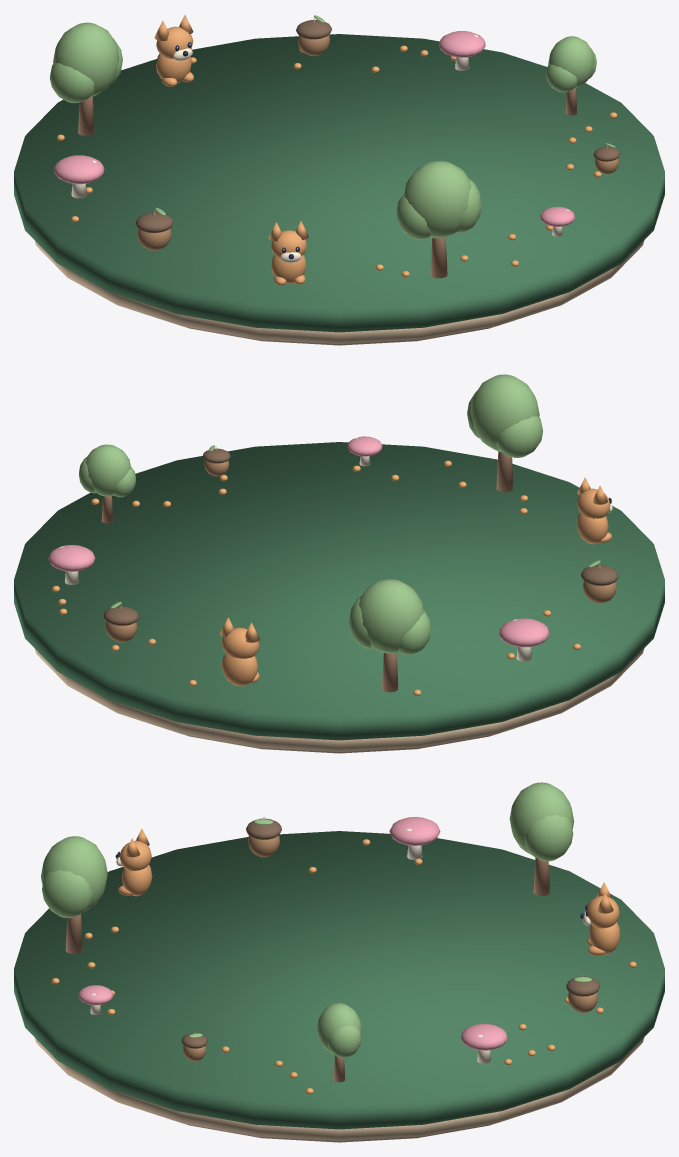
The model's file is world.glb.
The picture shows the model from 3 angles, top to bottom: view 1: azimuth 30°, elevation 25°; view 2: azimuth 150°, elevation 25°; view 3: azimuth 270°, elevation 25°; orthographic projection.
Parts seen in each view (by area): view 1: Cone, Cone.001, tree.003, tree.002, tree.001, fox.001, fox.002, mushroom.002, acorn.002, mushroom.001, acorn.001, mushroom.003 (+2 smaller); view 2: Cone, Cone.001, tree.002, tree.003, tree.001, fox.001, fox.002, mushroom.002, acorn.002, mushroom.001, acorn.001, mushroom.003 (+2 smaller); view 3: Cone, Cone.001, tree.003, tree.002, tree.001, fox.001, fox.002, mushroom.002, mushroom.001, acorn.002, acorn.001, mushroom.003 (+2 smaller).
Boxes of the visible parts, x1,y1,x2,y2 form: Cone: [14, 34, 664, 332]; Cone.001: [34, 240, 644, 344]; tree.003: [396, 161, 481, 278]; tree.002: [50, 22, 122, 136]; tree.001: [546, 36, 596, 115]; fox.001: [154, 15, 193, 86]; fox.002: [268, 221, 308, 285]; mushroom.002: [54, 155, 104, 198]; acorn.002: [135, 207, 173, 250]; mushroom.001: [439, 31, 485, 70]; acorn.001: [296, 15, 331, 56]; mushroom.003: [540, 206, 575, 236]; Cone: [14, 442, 664, 740]; Cone.001: [34, 648, 644, 751]; tree.002: [349, 579, 430, 692]; tree.003: [467, 374, 542, 492]; tree.001: [79, 444, 135, 523]; fox.001: [220, 617, 259, 686]; fox.002: [576, 477, 612, 544]; mushroom.002: [499, 618, 549, 661]; acorn.002: [581, 560, 618, 603]; mushroom.001: [48, 545, 95, 584]; acorn.001: [103, 601, 139, 642]; mushroom.003: [347, 436, 382, 466]; Cone: [14, 831, 664, 1129]; Cone.001: [34, 1037, 644, 1141]; tree.003: [41, 836, 107, 954]; tree.002: [509, 782, 574, 895]; tree.001: [317, 1003, 361, 1082]; fox.001: [580, 882, 620, 955]; fox.002: [115, 828, 152, 896]; mushroom.002: [389, 817, 440, 860]; mushroom.001: [461, 1023, 507, 1063]; acorn.002: [246, 817, 281, 857]; acorn.001: [566, 974, 600, 1012]; mushroom.003: [78, 985, 113, 1015].
Size of the model in its own units: 9.6 by 2.61 by 9.6.
